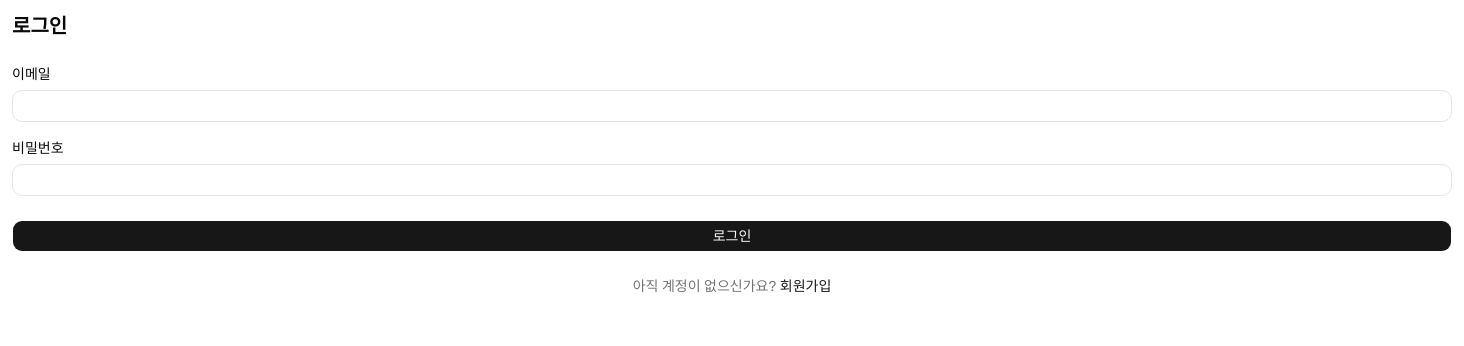
Test: LoginForm › 이메일·비밀번호가 틀리면 공통 에러 메시지를 보여주고 이동하지 않는다
The width and height of the screenshot is (1464, 346).
Type "minji@example.com" into the field labelled "이메일" at (732, 106), box [12,90,1452,122]
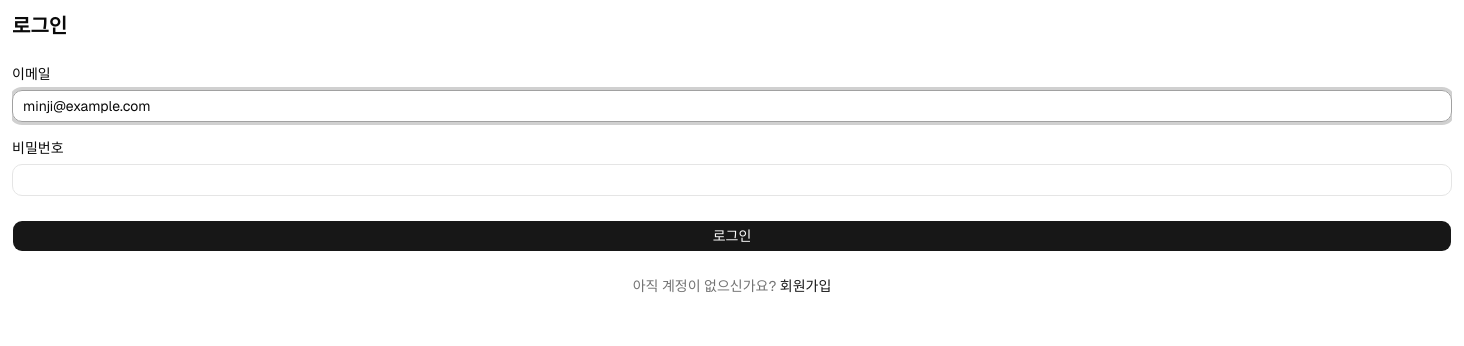
Type "wrong-password" into the password field labelled "비밀번호" at (732, 180), box [12,164,1452,196]
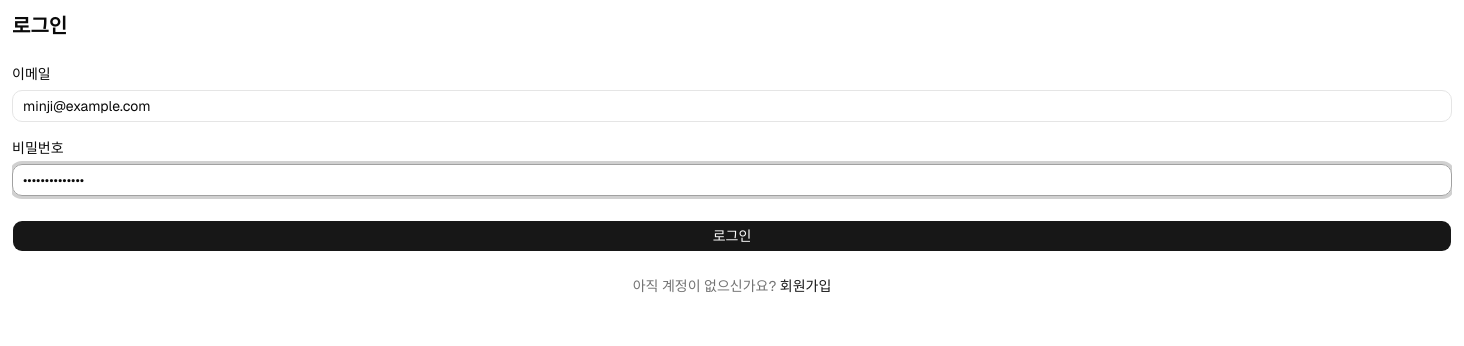
Click the button "로그인" at (732, 236), box [12,220,1452,252]
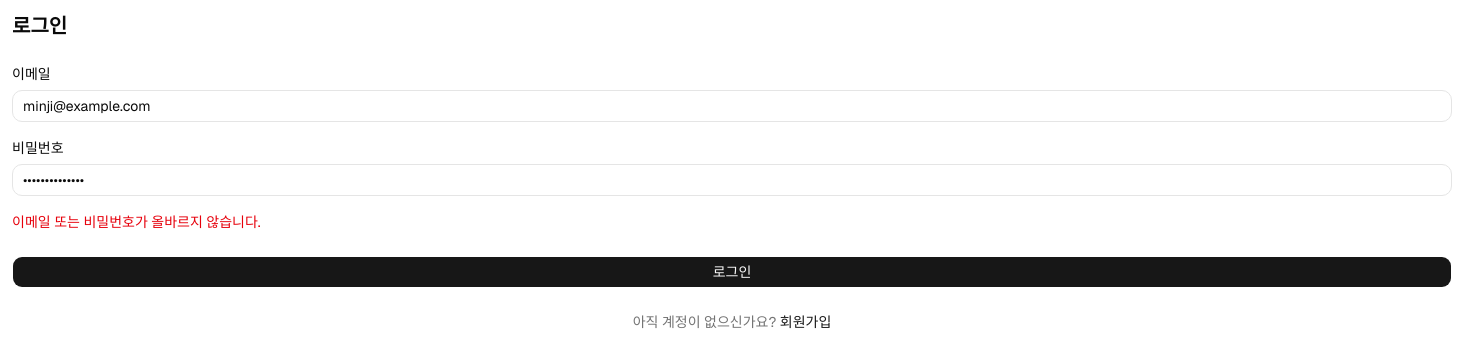
Expected: the text "이메일 또는 비밀번호가 올바르지 않습니다." is shown, [12,213,261,231]
